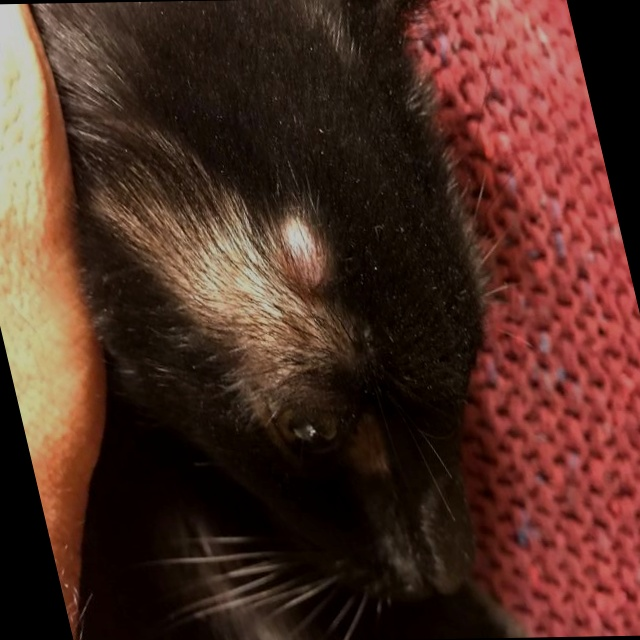lump_and_bump: (267, 218, 334, 282)
